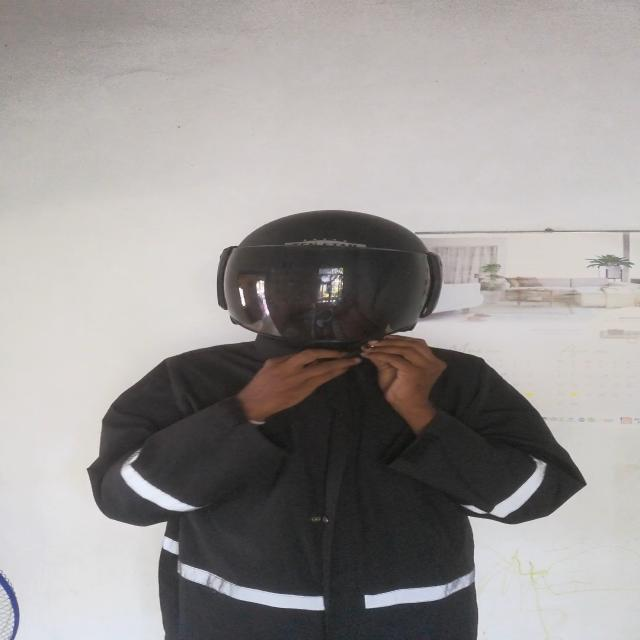Helmet_Wearer: (202, 210, 456, 367)
Jacket_Wearer: (83, 313, 590, 640)
Person: (96, 206, 596, 640)
